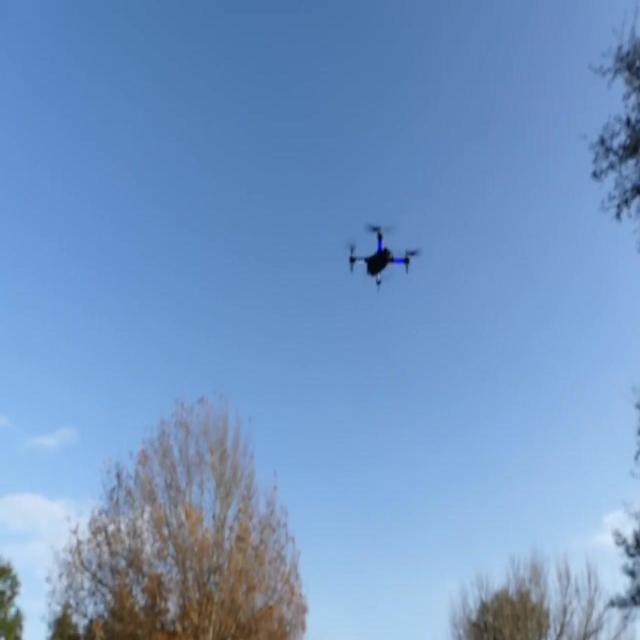drone: (349, 222, 421, 298)
